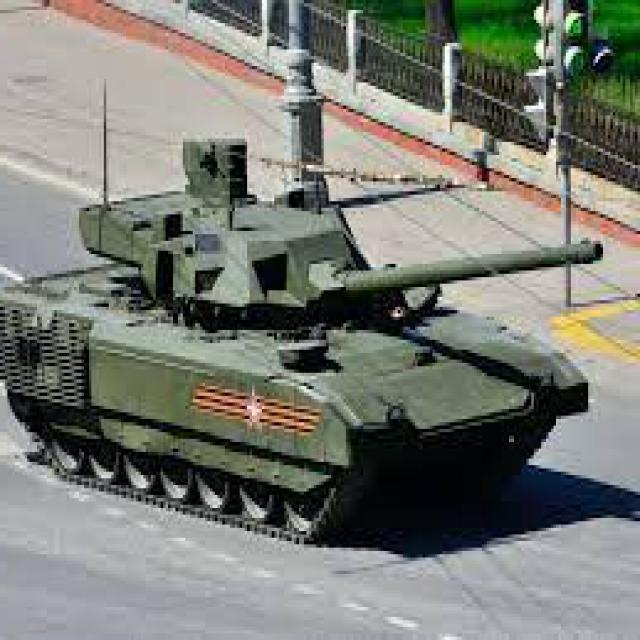Tanks: (0, 135, 603, 554)
